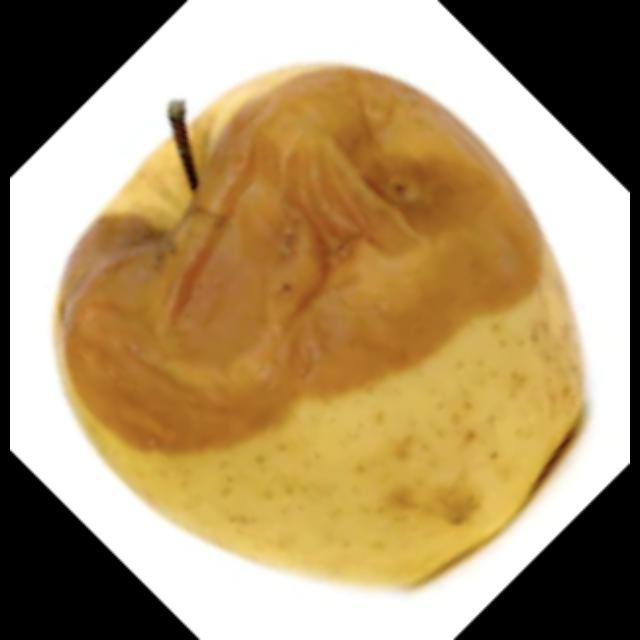Apel Tidak Segar: (55, 75, 589, 569)
